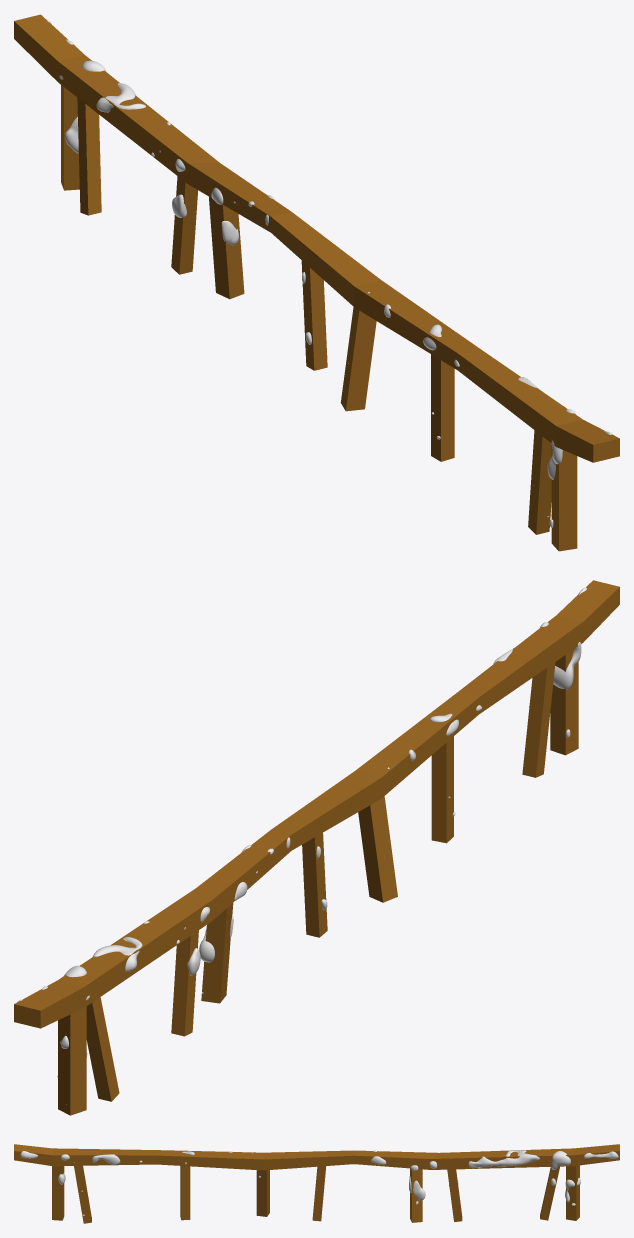
File: Fence 1.fbx
3 views of the same model, one above another, from view 1: azimuth 30°, elevation 25°; view 2: azimuth 150°, elevation 25°; view 3: azimuth 270°, elevation 25° (orthographic). The views are drawn at different scales.
Visible parts, largest first — view 1: SM_Prop_Fence_01, 3dmSnow; view 2: SM_Prop_Fence_01, 3dmSnow; view 3: SM_Prop_Fence_01, 3dmSnow.
Boxes of the visible parts, x1,y1,x2,y2 form: SM_Prop_Fence_01: (14,14,619,551); 3dmSnow: (47,19,612,527); SM_Prop_Fence_01: (14,580,619,1115); 3dmSnow: (17,587,586,1104); SM_Prop_Fence_01: (14,1144,619,1223); 3dmSnow: (20,1150,618,1217).
Bounding box in the file's own units: 12.65 × 38.33 × 285.
